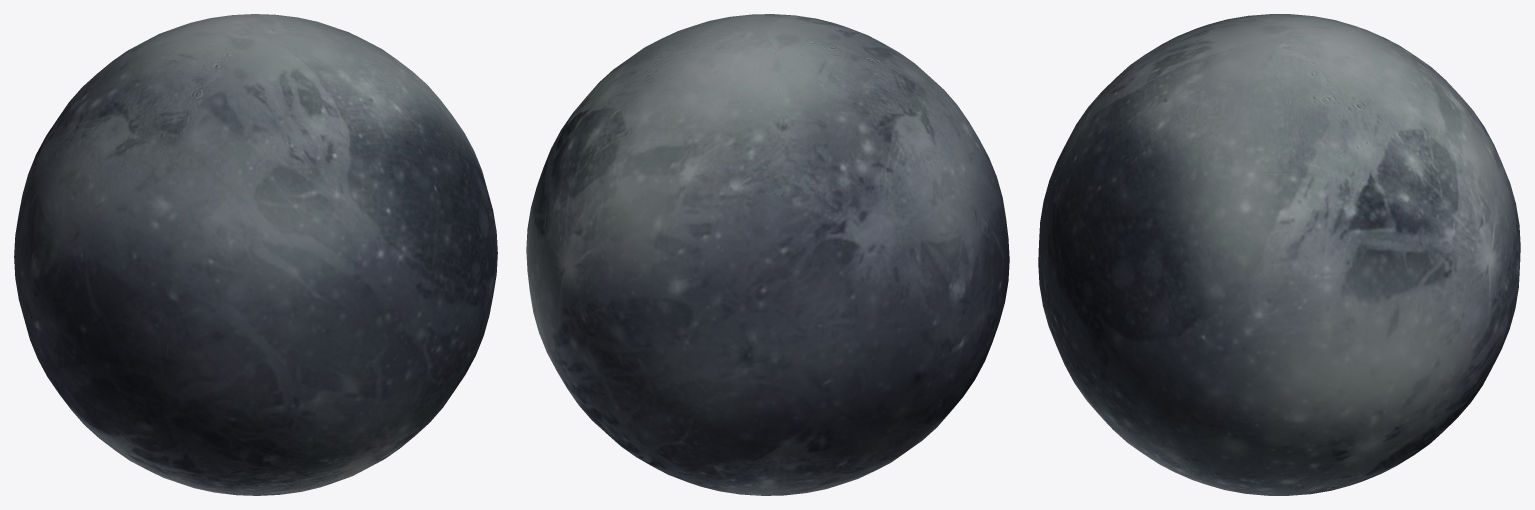
File: pluto.obj
3 views of the same model, side by side, from view 1: azimuth 30°, elevation 25°; view 2: azimuth 150°, elevation 25°; view 3: azimuth 270°, elevation 25° (orthographic).
Visible parts, largest first — view 1: Pluto.001_Sphere.010; view 2: Pluto.001_Sphere.010; view 3: Pluto.001_Sphere.010.
Part boxes in pixels (x1,y1,x2,y2): Pluto.001_Sphere.010: (14,14,497,495); Pluto.001_Sphere.010: (526,14,1009,495); Pluto.001_Sphere.010: (1038,14,1520,495).
Bounding box in the file's own units: 1.14 × 1.14 × 1.14.
1 material, 1 textured.
